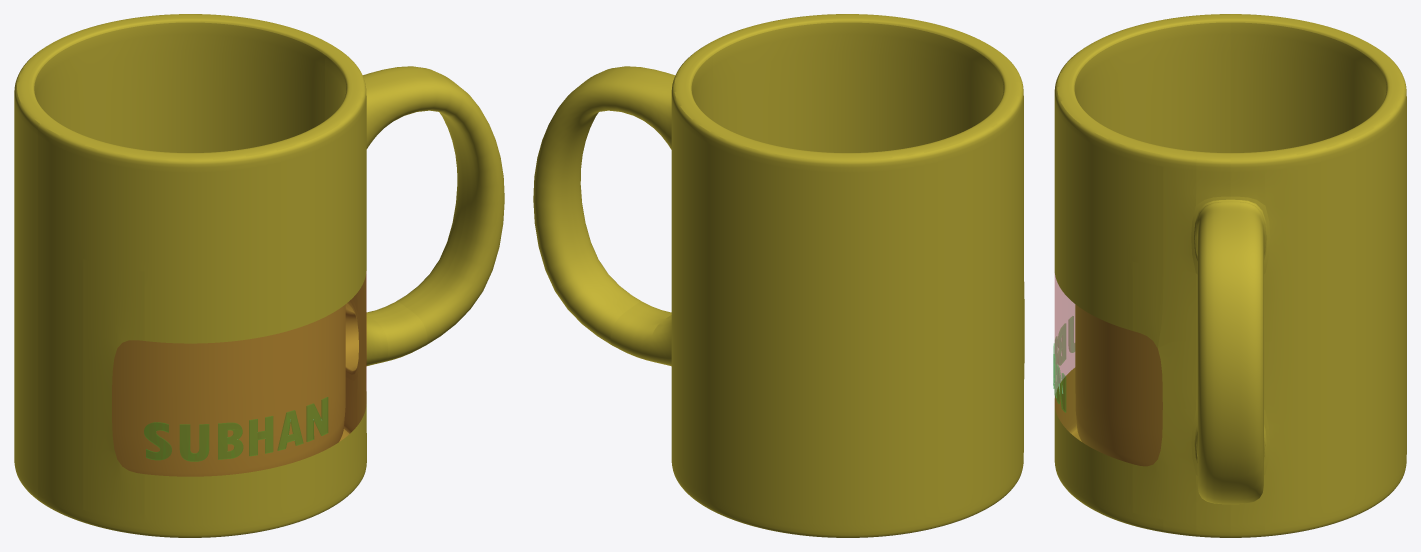
Rendered from Mug_Optimized.glb.
3 renders of one model, left to right at view 1: azimuth 30°, elevation 25°; view 2: azimuth 150°, elevation 25°; view 3: azimuth 270°, elevation 25°, orthographic.
Visible parts, largest first — view 1: Object003, Mug_001_Material_001_0, Object002, Object004, Object001, Mug_Material_0, Text_Brushed_black_metal_brass_0; view 2: Mug_Material_0, Object002, Object001, Object003, Object004; view 3: Mug_Material_0, Object003, Object002, Object001, Object004, Mug_001_Material_001_0, Text_Brushed_black_metal_brass_0.
Part boxes in pixels (x1,y1,x2,y2): Object003: (38,50,366,537); Mug_001_Material_001_0: (112,274,366,476); Object002: (112,56,346,476); Object004: (34,22,325,152); Object001: (345,66,504,374); Mug_Material_0: (14,14,340,500); Text_Brushed_black_metal_brass_0: (144,397,327,461); Mug_Material_0: (671,50,1000,537); Object002: (712,22,1003,152); Object001: (533,66,675,366); Object003: (697,14,1024,500); Object004: (691,55,713,120); Mug_Material_0: (1230,14,1406,537); Object003: (1054,14,1230,537); Object002: (1074,22,1230,466); Object001: (1194,199,1267,504); Object004: (1230,22,1386,152); Mug_001_Material_001_0: (1055,276,1162,465); Text_Brushed_black_metal_brass_0: (1053,316,1074,412).
Bounding box in the file's own units: 2.05 × 1.63 × 1.38.
